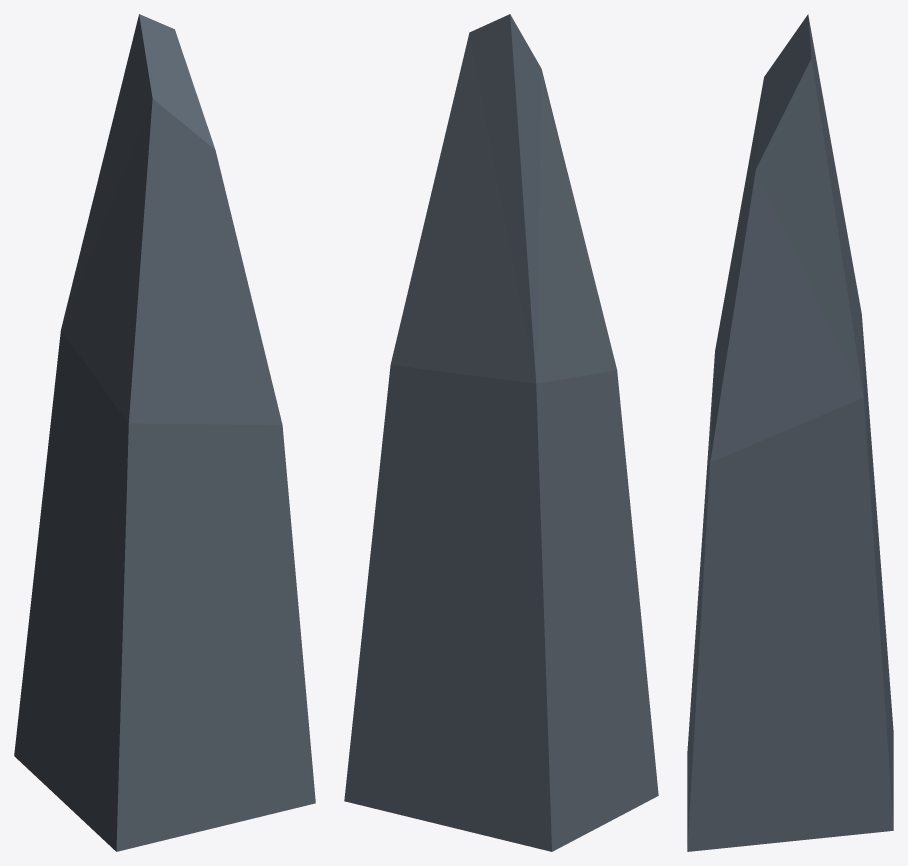
File: Rock_Sharp_s_06.fbx
3 renders of one model, left to right at view 1: azimuth 30°, elevation 25°; view 2: azimuth 150°, elevation 25°; view 3: azimuth 270°, elevation 25°, orthographic. The views are drawn at different scales.
Visible parts, largest first — view 1: Rock_Sharp_s_06; view 2: Rock_Sharp_s_06; view 3: Rock_Sharp_s_06.
Boxes of the visible parts, left/top/right/bottom form: Rock_Sharp_s_06: left=14, top=14, right=315, bottom=851; Rock_Sharp_s_06: left=344, top=14, right=658, bottom=851; Rock_Sharp_s_06: left=687, top=14, right=893, bottom=851.
Size of the model in its own units: 0.2195 by 0.8143 by 0.1951.
